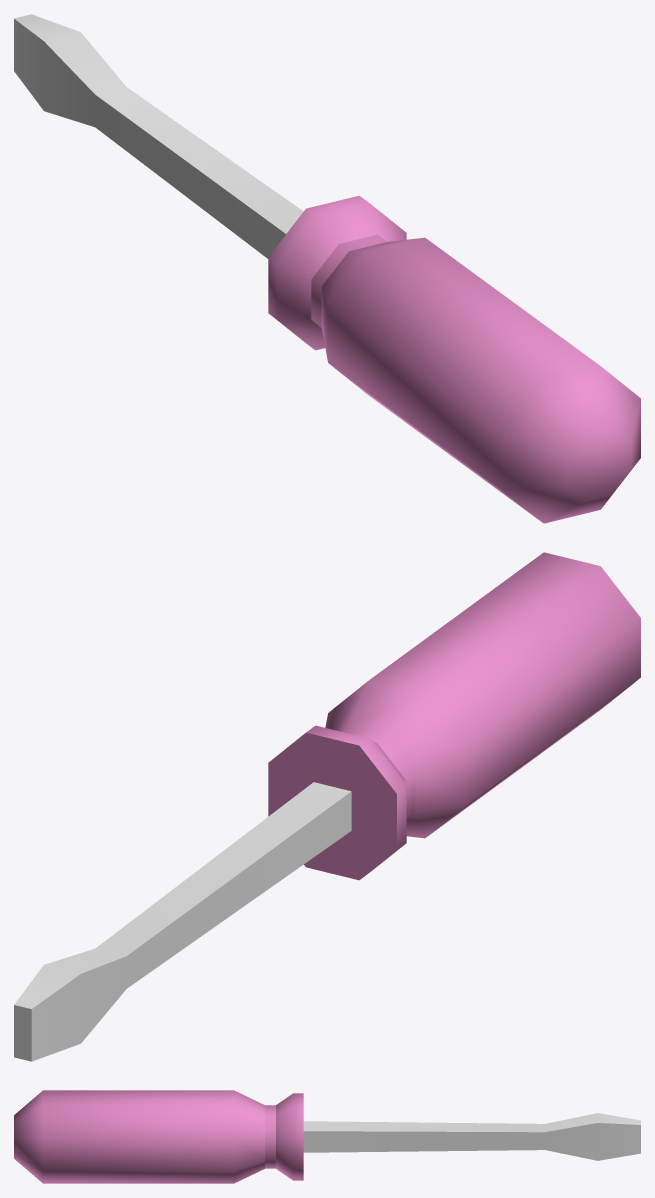
File: Screwdriver.fbx
The picture shows the model from 3 angles, top to bottom: view 1: azimuth 30°, elevation 25°; view 2: azimuth 150°, elevation 25°; view 3: azimuth 270°, elevation 25°; orthographic projection. The views are drawn at different scales.
Parts seen in each view (by area): view 1: Cylinder; view 2: Cylinder; view 3: Cylinder.
Part boxes in pixels (<box>): Cylinder: <box>14,14,640,523</box>; Cylinder: <box>14,552,640,1061</box>; Cylinder: <box>14,1090,640,1183</box>.
Bounding box in the file's own units: 5.24 × 5.24 × 38.09.
